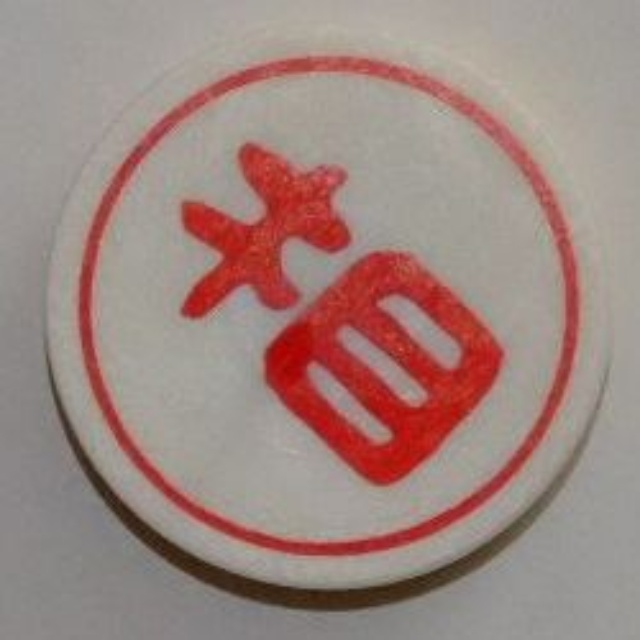red_bo: (36, 15, 623, 603)
